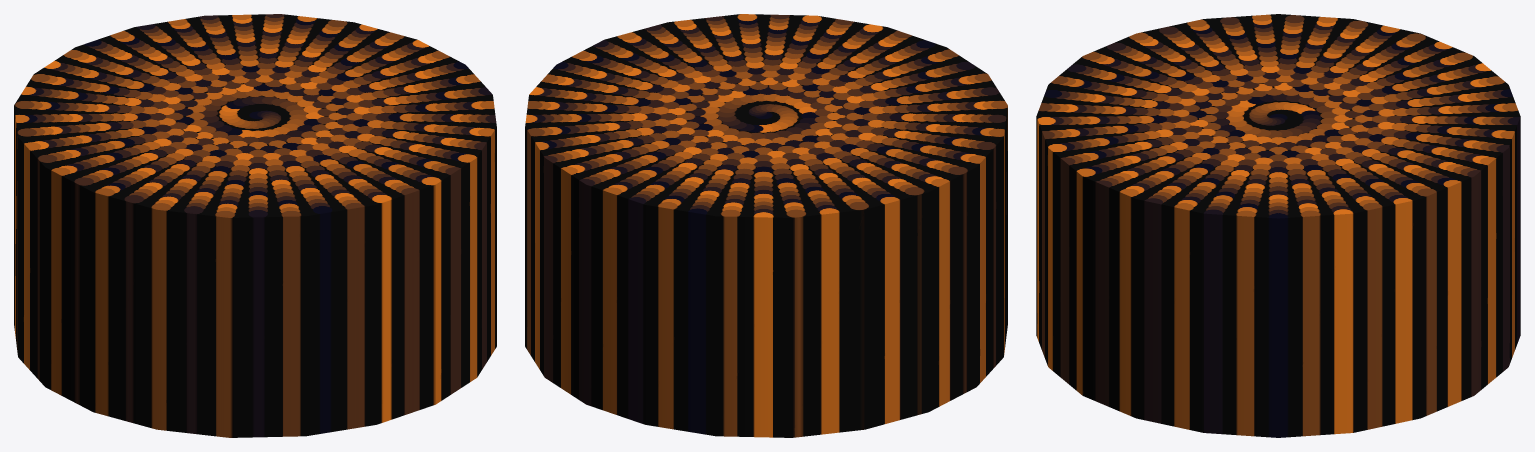
File: exitPortal-alt.fbx
The picture shows the model from 3 angles, left to right: view 1: azimuth 30°, elevation 25°; view 2: azimuth 150°, elevation 25°; view 3: azimuth 270°, elevation 25°; orthographic projection.
Parts seen in each view (by area): view 1: pCylinder1; view 2: pCylinder1; view 3: pCylinder1.
Part boxes in pixels (x1,y1,x2,y2): pCylinder1: (14,14,496,437); pCylinder1: (525,14,1007,437); pCylinder1: (1036,14,1520,437).
Bounding box in the file's own units: 2 × 1 × 2.
1 material, 1 textured.
